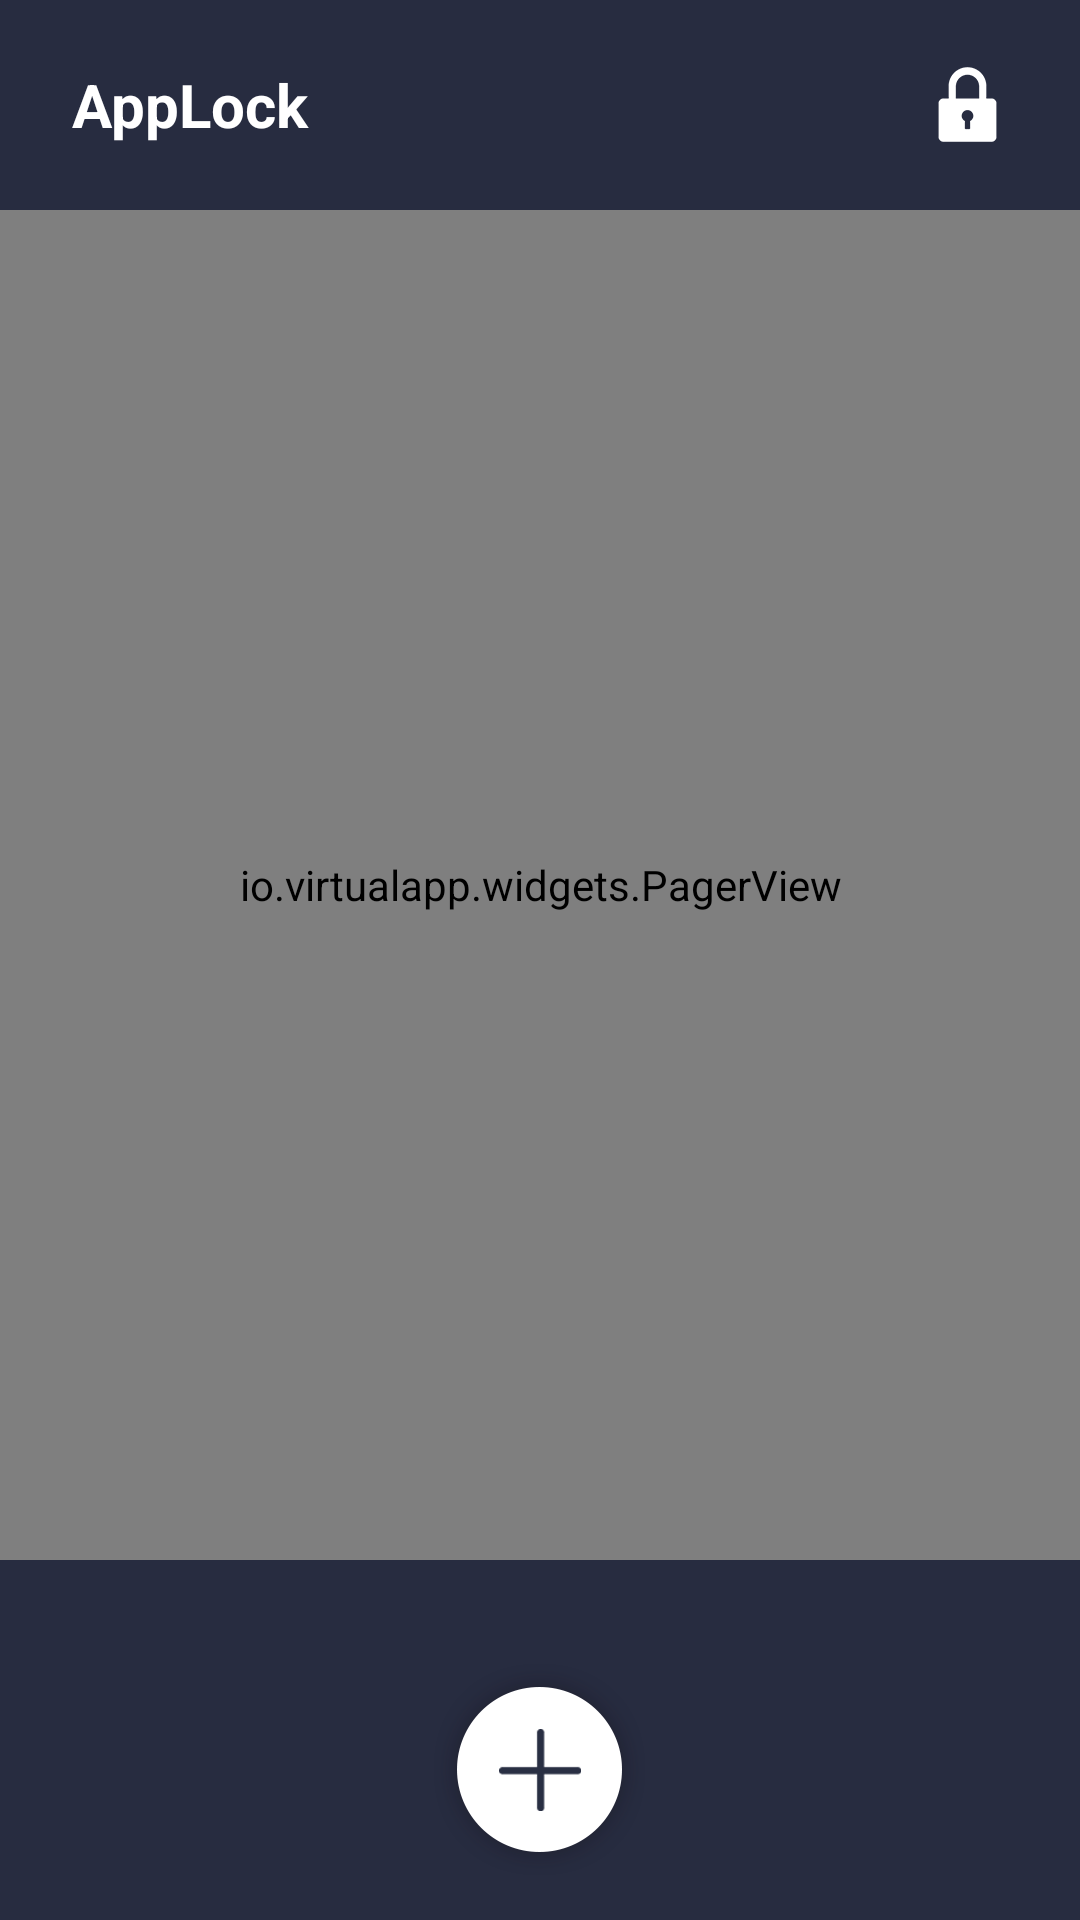

Named icons in this screenshot (1080w x 1920h) and their bounding boxes, (x1, y1, x2, y2):
ivy privacy space lock: (938, 67, 997, 142)
